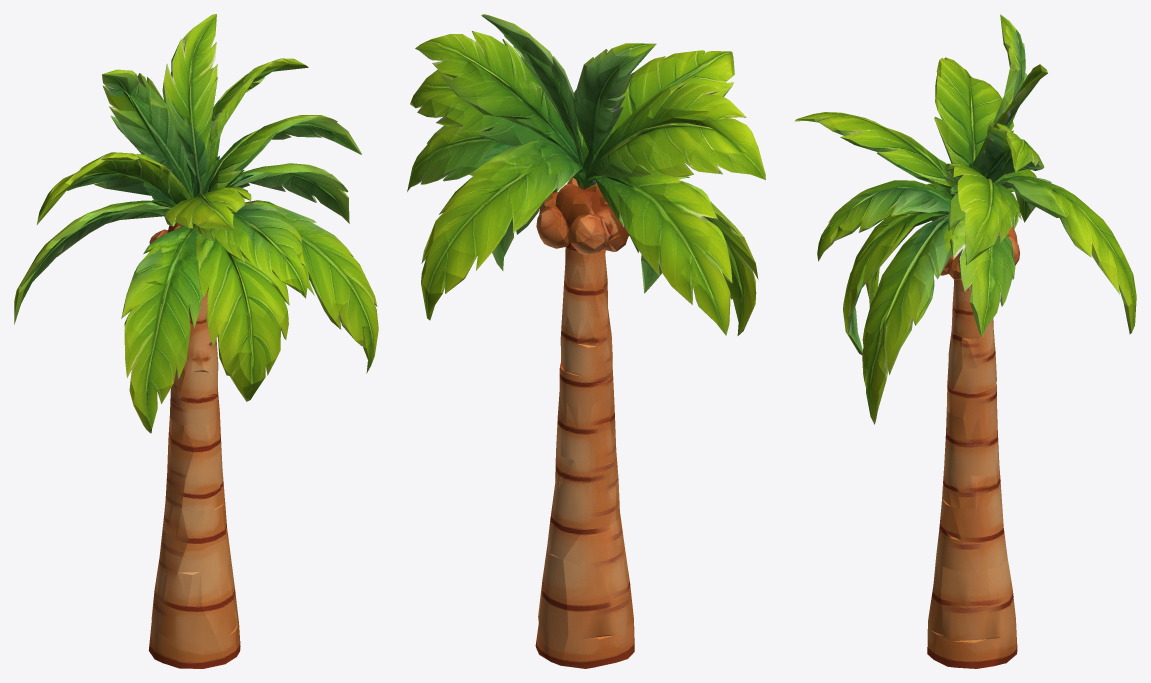
File: palm.glb
The picture shows the model from 3 angles, left to right: view 1: azimuth 30°, elevation 25°; view 2: azimuth 150°, elevation 25°; view 3: azimuth 270°, elevation 25°; orthographic projection. The views are drawn at different scales.
Visible parts, largest first — view 1: geometry_0; view 2: geometry_0; view 3: geometry_0.
Boxes of the visible parts, <box> form: geometry_0: <box>14,14,378,668</box>; geometry_0: <box>407,14,765,668</box>; geometry_0: <box>794,14,1136,668</box>.
Size of the model in its own units: 3.38 by 5.89 by 3.01.
1 material, 1 textured.
